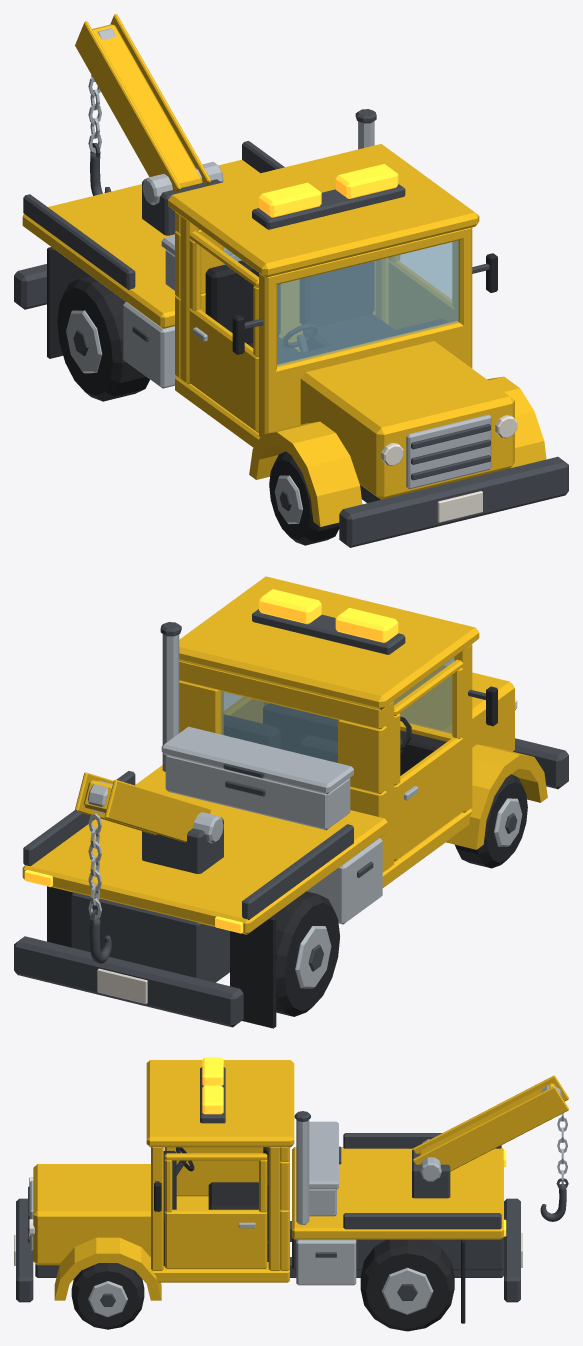
The model's file is wrecker.glb.
The picture shows the model from 3 angles, top to bottom: view 1: azimuth 30°, elevation 25°; view 2: azimuth 150°, elevation 25°; view 3: azimuth 270°, elevation 25°; orthographic projection. The views are drawn at different scales.
Parts seen in each view (by area): view 1: TowTruck_Body, TowBoom, Door_L, Wheel_RL, Wheel_FL, DriverSeat, Door_R; view 2: TowTruck_Body, Door_L, TowBoom, Wheel_RL, ToolboxLid, Wheel_FL, DriverSeat, Door_R; view 3: TowTruck_Body, Door_R, Wheel_RR, TowBoom, Wheel_FR, Door_L, ToolboxLid, DriverSeat.
Part boxes in pixels (left/top/right/bottom): TowTruck_Body: left=14, top=109, right=568, bottom=547; TowBoom: left=75, top=14, right=223, bottom=205; Door_L: left=189, top=231, right=258, bottom=432; Wheel_RL: left=57, top=276, right=149, bottom=401; Wheel_FL: left=269, top=451, right=339, bottom=545; DriverSeat: left=205, top=260, right=299, bottom=358; Door_R: left=389, top=242, right=453, bottom=329; TowTruck_Body: left=14, top=576, right=568, bottom=1028; Door_L: left=394, top=659, right=463, bottom=861; TowBoom: left=75, top=772, right=223, bottom=963; Wheel_RL: left=272, top=891, right=339, bottom=1016; ToolboxLid: left=161, top=726, right=353, bottom=794; Wheel_FL: left=455, top=774, right=527, bottom=868; DriverSeat: left=300, top=735, right=337, bottom=762; Door_R: left=224, top=697, right=263, bottom=723; TowTruck_Body: left=14, top=1057, right=522, bottom=1323; Door_R: left=164, top=1153, right=267, bottom=1268; Wheel_RR: left=360, top=1239, right=454, bottom=1331; TowBoom: left=413, top=1075, right=568, bottom=1221; Wheel_FR: left=71, top=1263, right=144, bottom=1329; Door_L: left=164, top=1147, right=263, bottom=1196; ToolboxLid: left=309, top=1121, right=341, bottom=1189; DriverSeat: left=208, top=1147, right=268, bottom=1209.
Size of the model in its own units: 10.6 by 11.05 by 25.95.
